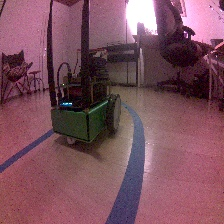rob: (49, 55, 121, 146)
